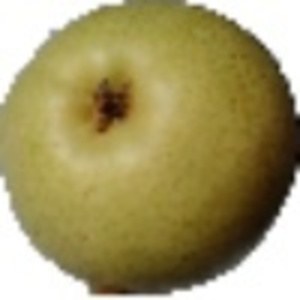pera: (1, 1, 300, 299)
